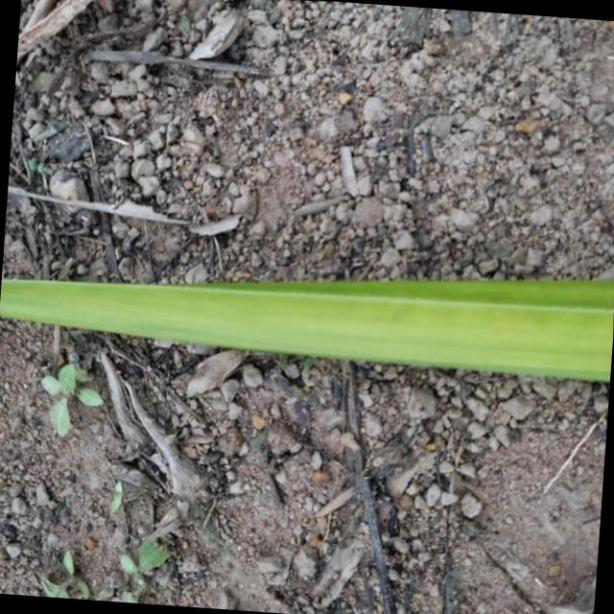nitrogen: (0, 268, 614, 389)
